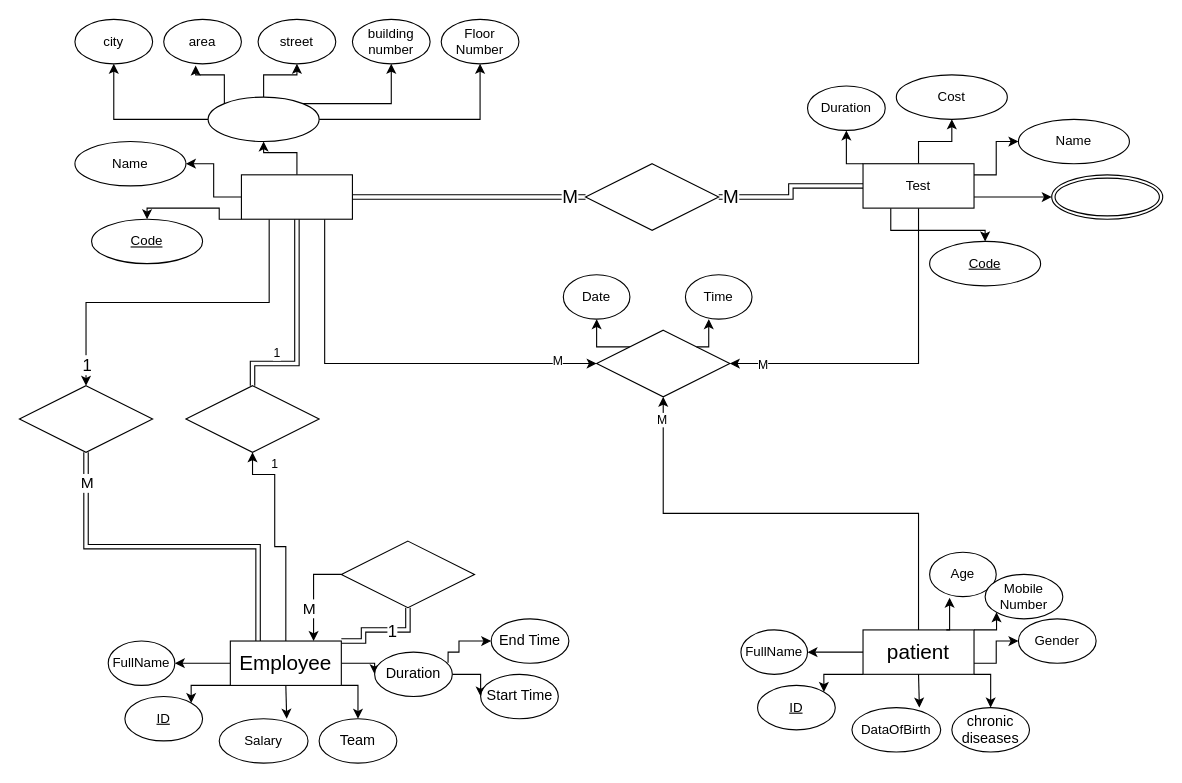
This 1182x783 diagram has some shape labels left out. The shapes that lost their labels are listed below. From the top down, each one's centre as x and y in pixels, then its label:
point 263,119: Location
point 296,196: Branch
point 651,196: Provide
point 1107,196: Condition
point 663,363: perform
point 85,418: Serve
point 252,418: Manage
point 407,574: Supervise
